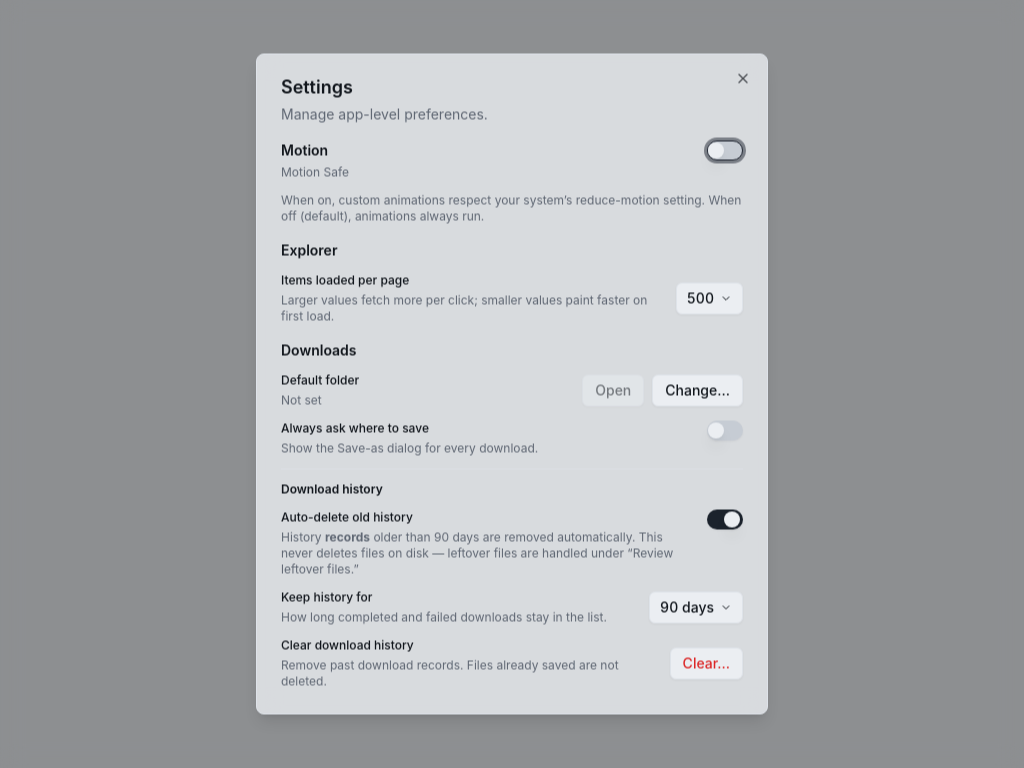
Test: SettingsDialog — Download history retention (add-download-history-ui §7) › opens the Clear download history dialog (showing the updated safety copy)
Click the button "Clear…": point(706, 664) [670, 648, 743, 680]
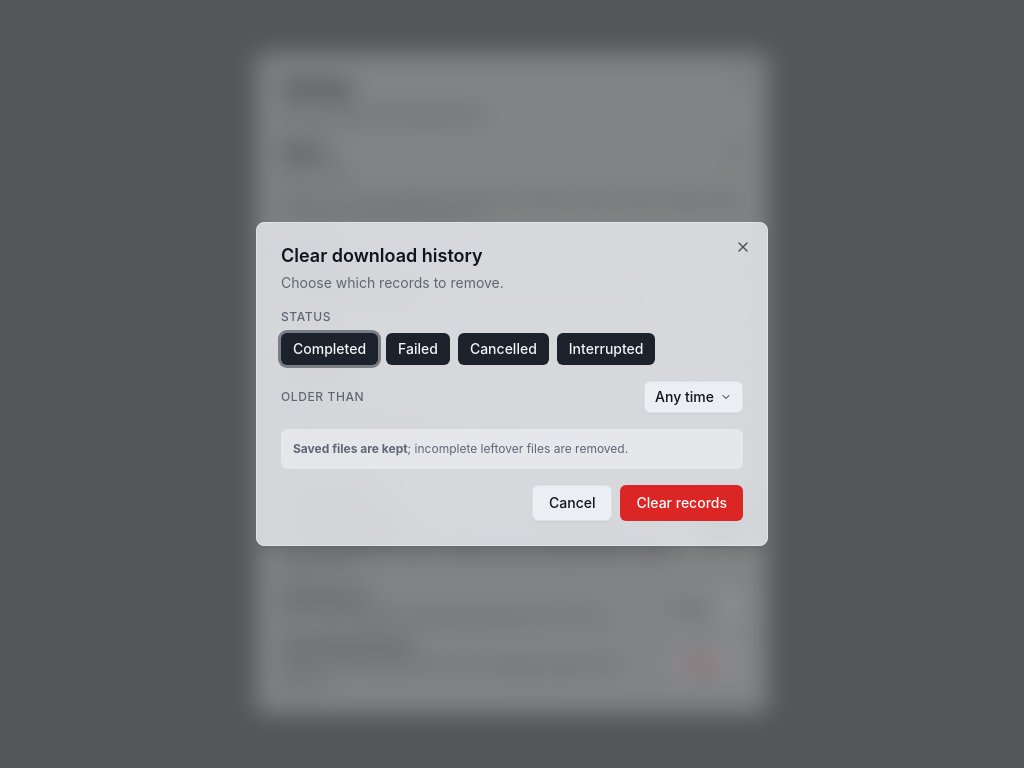
Now the text "Saved files are kept" is shown, box [293, 441, 408, 456]
